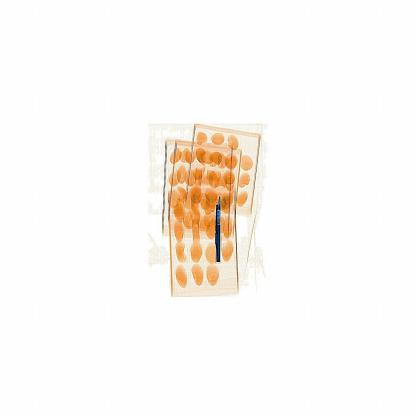pliers: (211, 192, 224, 269)
